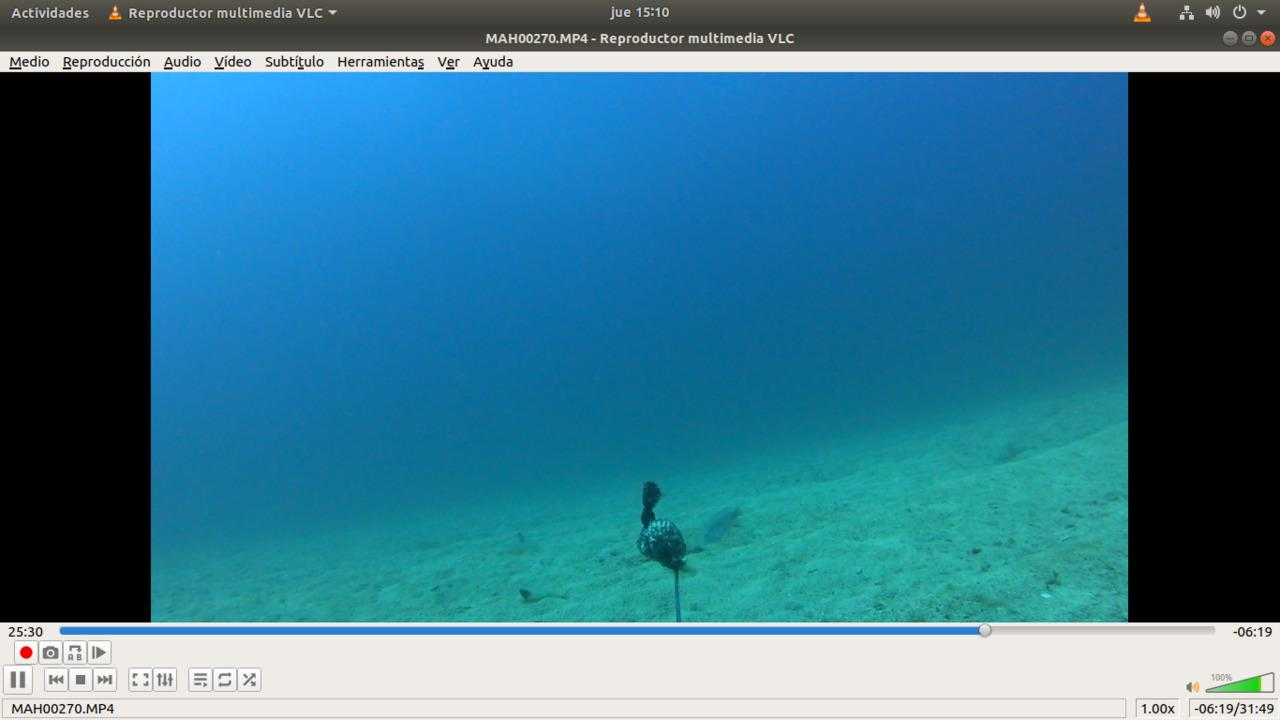raor: (698, 498, 749, 552)
